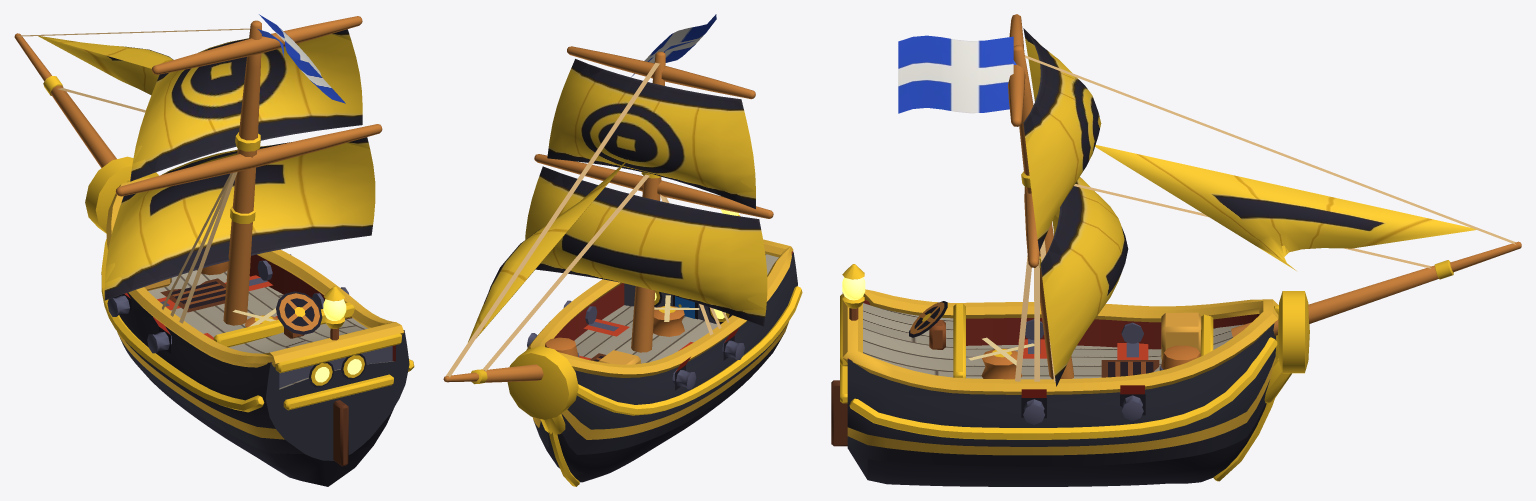
Rendered from enemy_sloop.glb.
3 views of the same model, side by side, from view 1: azimuth 30°, elevation 25°; view 2: azimuth 150°, elevation 25°; view 3: azimuth 270°, elevation 25° (orthographic). The views are drawn at different scales.
Parts seen in each view (by area): view 1: Hull, Sail0_0, Sail0_1, Rigging, Jib, Guns0, Flag; view 2: Hull, Sail0_0, Sail0_1, Rigging, Jib, Guns0, Flag; view 3: Hull, Jib, Rigging, Sail0_0, Sail0_1, Flag, Guns0.
Part boxes in pixels (bbox=[...]): Hull: bbox=[85, 156, 414, 486]; Sail0_0: bbox=[104, 137, 375, 300]; Sail0_1: bbox=[130, 29, 362, 181]; Rigging: bbox=[14, 16, 382, 325]; Jib: bbox=[38, 36, 173, 95]; Guns0: bbox=[107, 254, 349, 353]; Flag: bbox=[259, 14, 345, 103]; Hull: bbox=[507, 196, 802, 486]; Sail0_0: bbox=[525, 166, 767, 326]; Sail0_1: bbox=[547, 59, 755, 208]; Rigging: bbox=[443, 41, 773, 384]; Jib: bbox=[468, 159, 628, 341]; Guns0: bbox=[527, 300, 744, 389]; Flag: bbox=[631, 14, 716, 76]; Hull: bbox=[831, 264, 1309, 486]; Jib: bbox=[1095, 145, 1476, 270]; Rigging: bbox=[1008, 14, 1521, 381]; Sail0_0: bbox=[1040, 177, 1128, 386]; Sail0_1: bbox=[1023, 28, 1101, 251]; Flag: bbox=[898, 35, 1013, 113]; Guns0: bbox=[1018, 319, 1148, 424].
Size of the model in its own units: 1.19 by 1.8 by 2.51.
9 materials, 4 textured.
